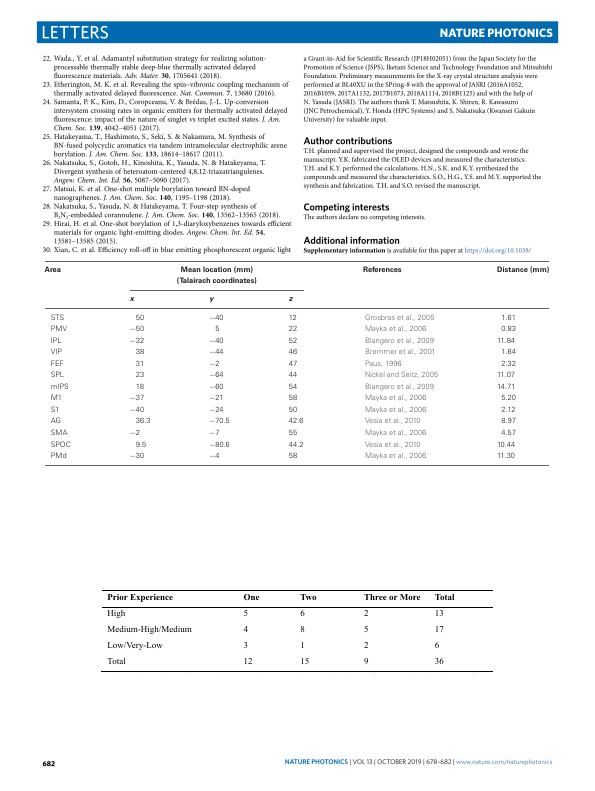borderless: (44, 260, 549, 465), (101, 588, 493, 671)
cell: (176, 266, 258, 286), (106, 625, 192, 635), (364, 371, 439, 380), (106, 592, 173, 602), (364, 349, 436, 358), (364, 314, 435, 323), (364, 337, 435, 346), (364, 383, 435, 392), (362, 592, 421, 602), (106, 641, 163, 651), (364, 406, 427, 415), (364, 429, 427, 438), (364, 452, 427, 461), (364, 418, 421, 427), (364, 441, 421, 450), (364, 326, 427, 334), (364, 395, 427, 403), (496, 266, 550, 274), (364, 360, 403, 369), (362, 266, 403, 274), (433, 592, 455, 602), (208, 418, 231, 427), (208, 441, 231, 450), (106, 609, 126, 619), (106, 657, 126, 667), (50, 441, 72, 450), (496, 337, 516, 346), (496, 371, 516, 380), (50, 383, 70, 392), (496, 383, 516, 392), (496, 441, 516, 450), (496, 452, 516, 461), (242, 592, 260, 602), (299, 592, 317, 602), (50, 429, 68, 438), (50, 452, 68, 461), (208, 314, 225, 323), (500, 314, 517, 323), (208, 337, 225, 346), (208, 349, 225, 358), (500, 349, 517, 358), (500, 360, 517, 369), (208, 371, 225, 380), (208, 383, 225, 392), (208, 395, 225, 404), (208, 406, 225, 415), (500, 418, 517, 427), (500, 429, 517, 438), (43, 266, 62, 274), (50, 326, 68, 334), (129, 337, 145, 346), (129, 395, 145, 404), (129, 406, 145, 415), (500, 406, 516, 415), (135, 418, 151, 427), (288, 418, 304, 427), (288, 441, 304, 450), (129, 452, 145, 461), (500, 326, 517, 334), (500, 395, 517, 403), (50, 314, 65, 323), (50, 360, 65, 369), (50, 371, 65, 380), (129, 326, 145, 334), (50, 337, 63, 346), (50, 349, 63, 358), (50, 395, 63, 404), (433, 609, 444, 619), (433, 625, 444, 635), (242, 657, 253, 667), (299, 657, 310, 667), (433, 657, 444, 667), (208, 360, 220, 369), (50, 418, 62, 427), (129, 429, 141, 438), (208, 429, 220, 438), (135, 441, 147, 450), (208, 452, 220, 461), (135, 314, 145, 323), (288, 314, 298, 323), (288, 337, 298, 346), (135, 349, 145, 358), (288, 349, 298, 358), (135, 360, 145, 369), (288, 360, 298, 369), (135, 371, 145, 380), (288, 371, 298, 380), (135, 383, 145, 392), (288, 383, 298, 392), (288, 395, 298, 404), (50, 406, 60, 415), (288, 406, 298, 415), (288, 429, 298, 438), (288, 452, 298, 461), (288, 326, 298, 334), (362, 609, 369, 619), (362, 625, 369, 635), (362, 641, 369, 651), (433, 641, 440, 651), (362, 657, 369, 667), (242, 609, 248, 619), (299, 609, 305, 619), (242, 625, 248, 635), (299, 625, 305, 635), (242, 641, 248, 651), (299, 641, 305, 651), (214, 326, 220, 334), (129, 297, 135, 304), (208, 297, 214, 304), (288, 297, 293, 304)
